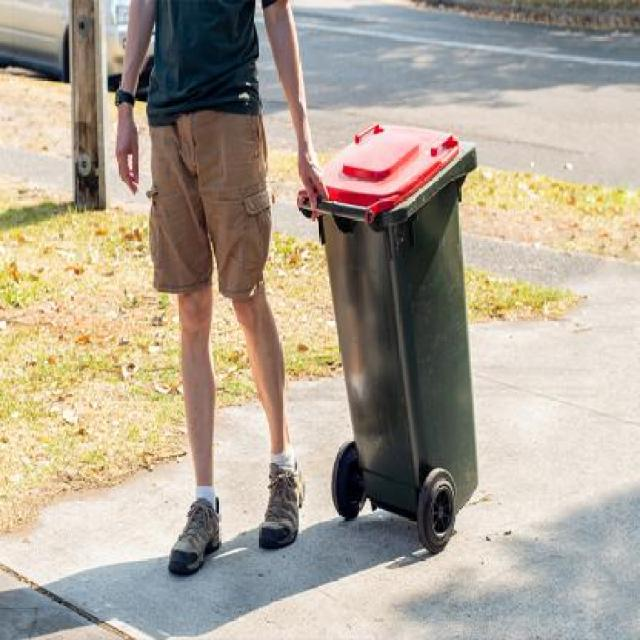garbage container: (294, 111, 488, 564)
